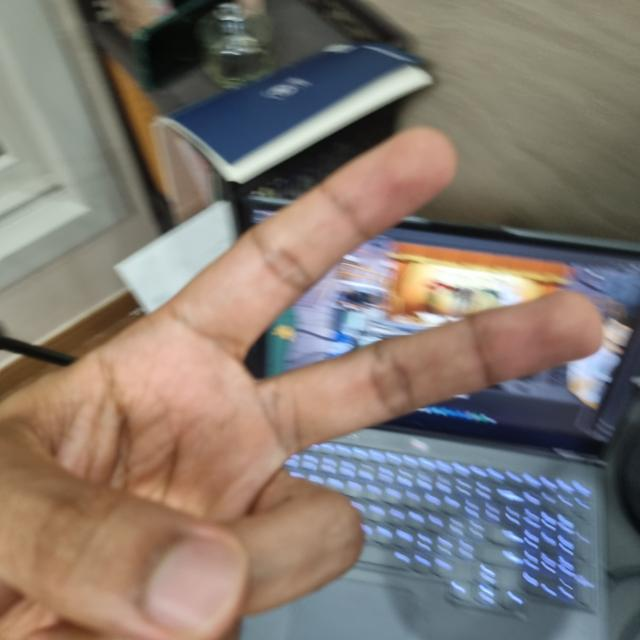Scissors: (0, 128, 604, 639)
